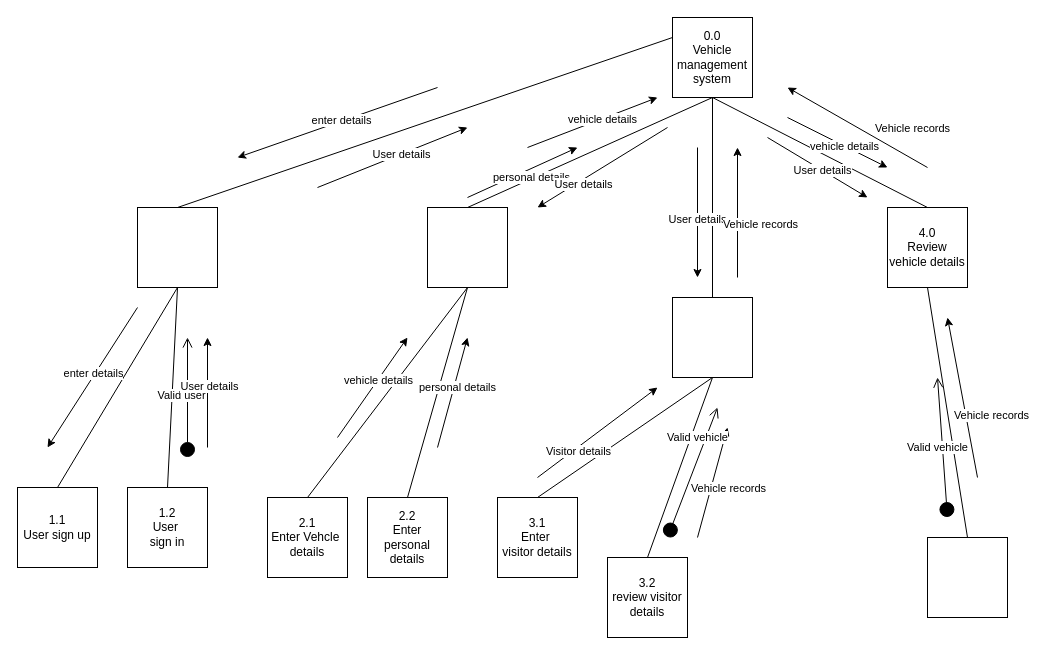
Image size: 1047x655. Some labels were removed from this diagram. The centre of each missing label's shape, as x and y in pixels:
"1.0 User sign up/in" goes at pixel 177 247.
"2.0 Register Vehicles" goes at pixel 467 247.
"3.0 Visitors" goes at pixel 712 337.
"4.1 Valid vehicle" goes at pixel 967 577.
